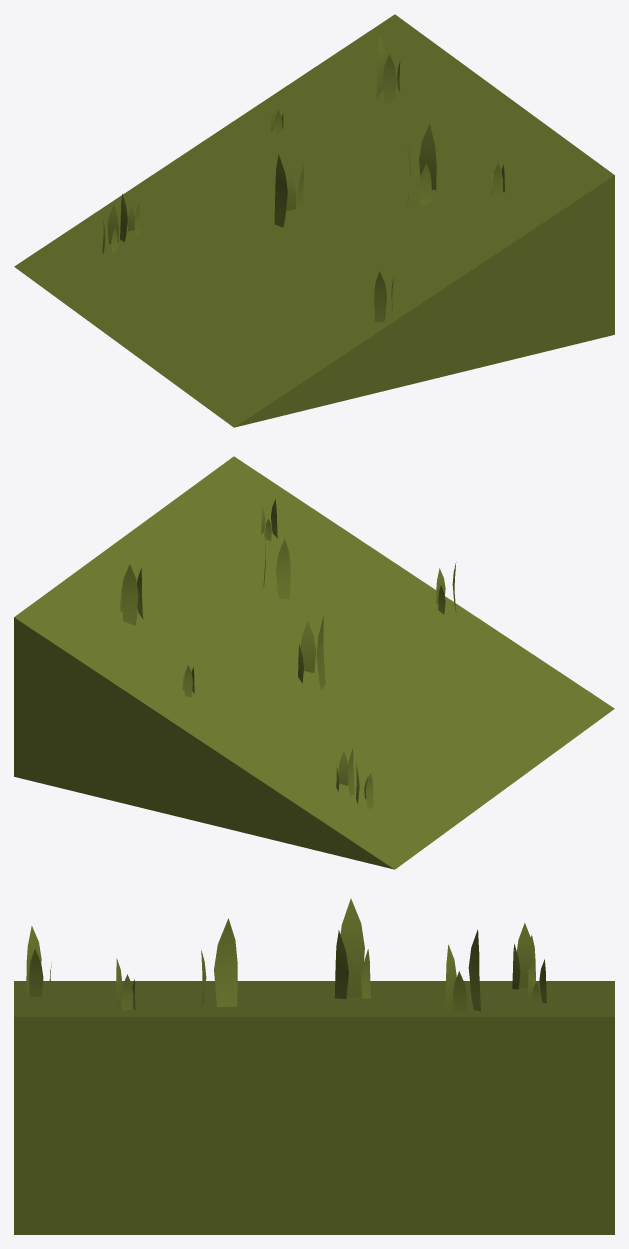
Rendered from BlockGrassAngle.glb.
3 renders of one model, top to bottom at view 1: azimuth 30°, elevation 25°; view 2: azimuth 150°, elevation 25°; view 3: azimuth 270°, elevation 25°, orthographic. The views are drawn at different scales.
Parts seen in each view (by area): view 1: Block Grass Angle 1; view 2: Block Grass Angle 1; view 3: Block Grass Angle 1.
Part boxes in pixels (x1=…): Block Grass Angle 1: x1=14, y1=14, x2=614, y2=427; Block Grass Angle 1: x1=14, y1=456, x2=614, y2=869; Block Grass Angle 1: x1=14, y1=898, x2=614, y2=1234.
Bounding box in the file's own units: 1 × 0.4819 × 1.
